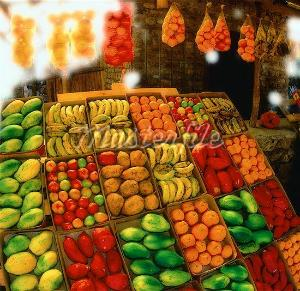banana: (150, 146, 198, 198), (88, 97, 134, 146), (44, 106, 92, 150), (205, 92, 246, 134)
mango: (117, 212, 183, 291), (48, 156, 102, 238), (97, 150, 151, 222), (0, 229, 58, 291), (64, 229, 122, 291), (0, 159, 46, 227), (218, 192, 266, 250), (0, 100, 46, 154), (195, 142, 240, 196), (262, 177, 296, 236), (250, 246, 290, 291), (212, 260, 255, 291)
orange: (182, 194, 230, 270), (100, 14, 140, 68), (232, 132, 272, 184), (193, 12, 233, 52), (156, 10, 188, 48), (235, 19, 262, 63)
